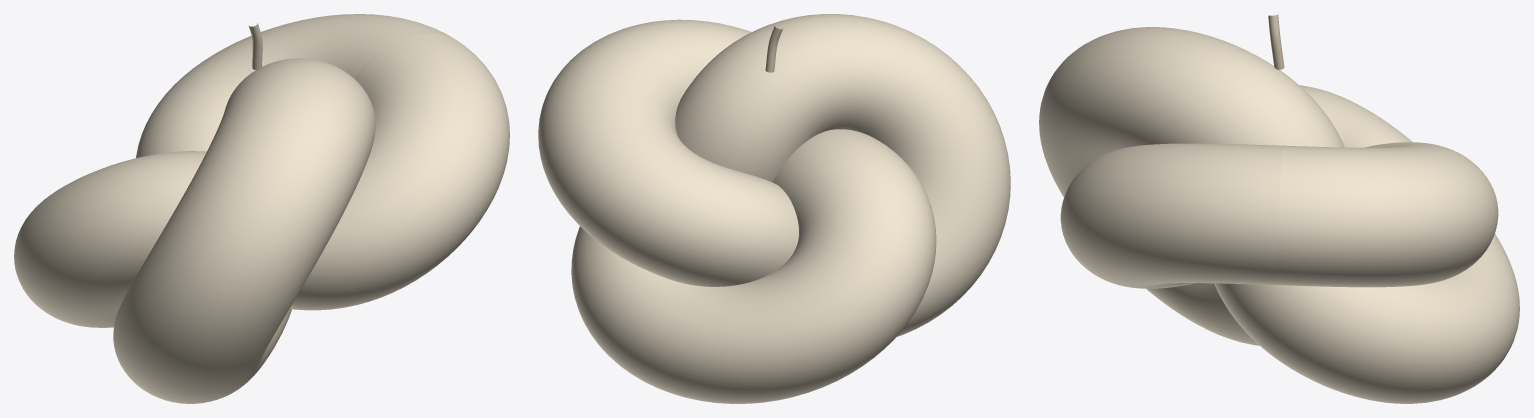
The model's file is candle_v3.glb.
3 views of the same model, side by side, from view 1: azimuth 30°, elevation 25°; view 2: azimuth 150°, elevation 25°; view 3: azimuth 270°, elevation 25° (orthographic). The views are drawn at different scales.
Bounding box in the file's own units: 2.36 × 1.87 × 2.28.
